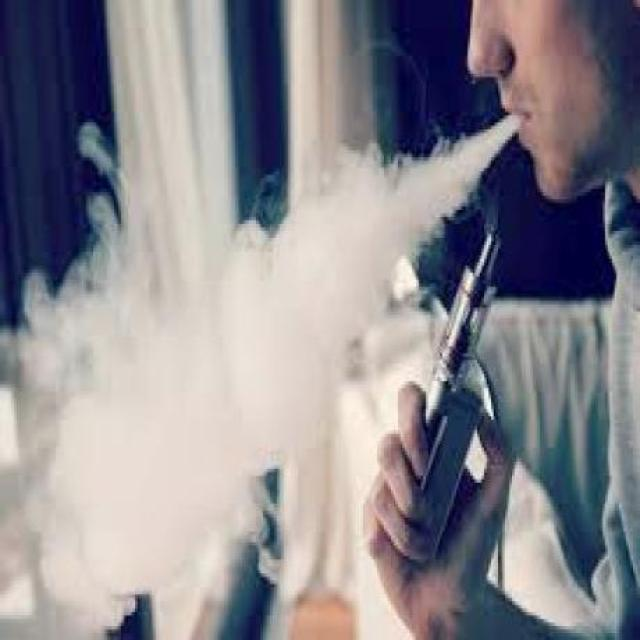Smoke: (6, 102, 516, 620)
